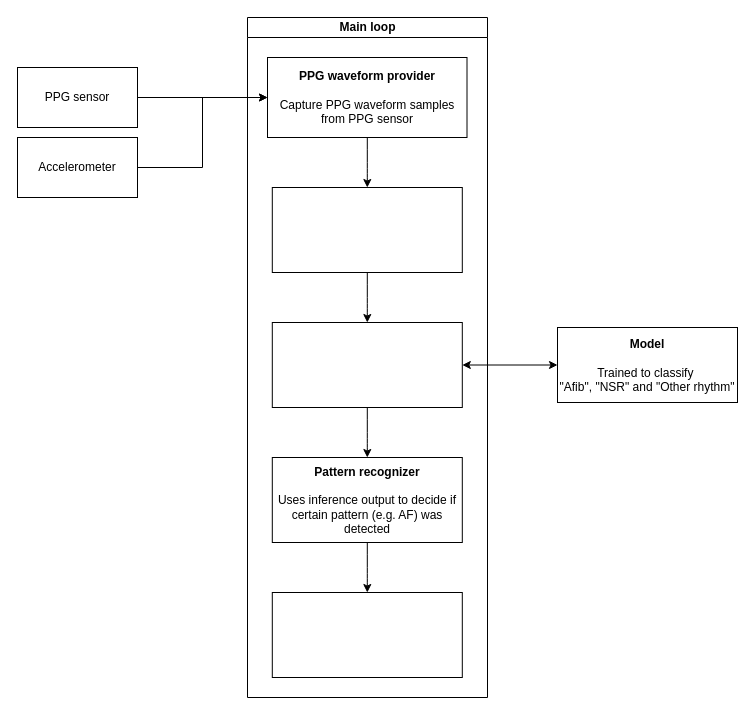
This 755x715 diagram has some shape labels left out. The shapes that lost their labels are listed below. From the top down, each one's centre as x and y in pixels, then its label:
[366,229]: Feature provider Converts raw PPG data into spectrograms or other features
[366,365]: TF Lite interpreter Runs the model
[366,635]: Pattern responder Takes action based on which pattern was detected
